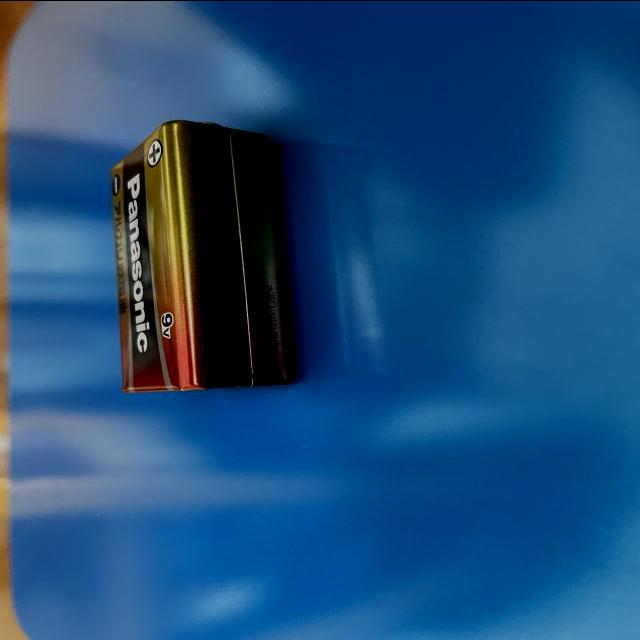9V: (107, 118, 300, 393)
